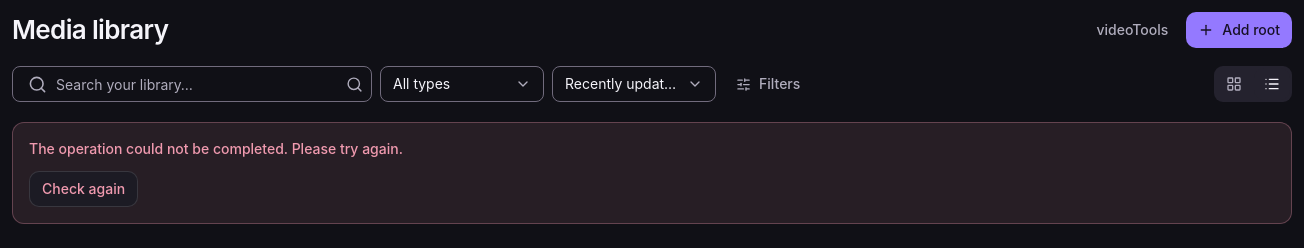
keeps explicit list view and recovers a failed media request without fake cards
The image size is (1304, 248).
Expected: the message "The operation could not be completed. Please try again. Check again" is shown, [12,122,1292,224]
Click the button "Check again" at (84, 189), box [29,171,138,207]
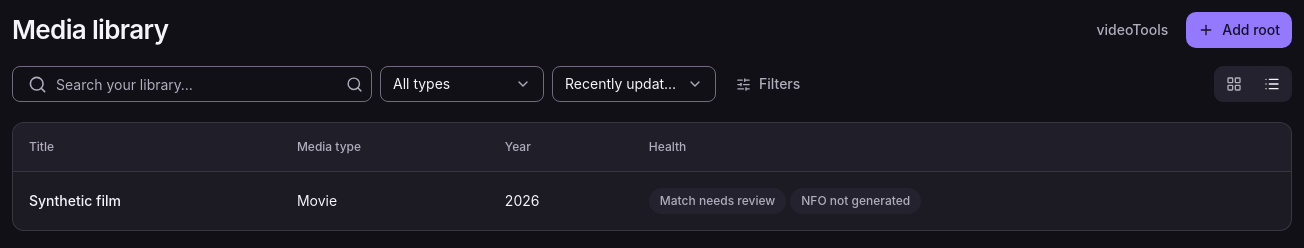
Expected: the table is shown, [13,123,1291,230]
